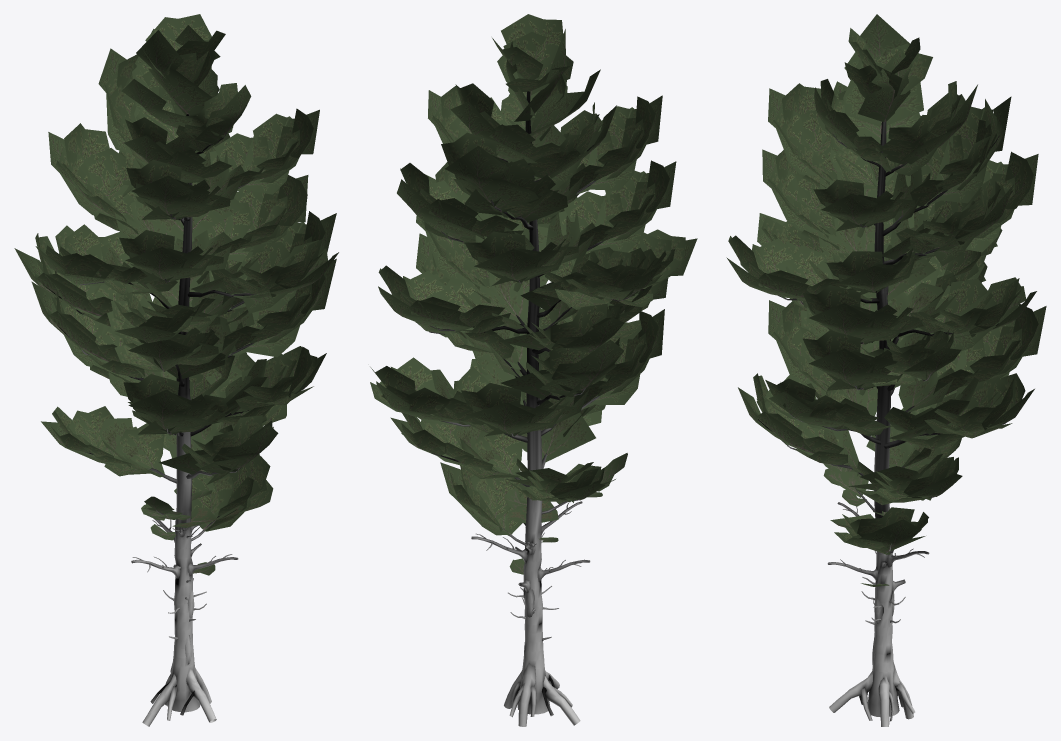
The model's file is PW_Tree_Pine_02_Hero.fbx.
The picture shows the model from 3 angles, left to right: view 1: azimuth 30°, elevation 25°; view 2: azimuth 150°, elevation 25°; view 3: azimuth 270°, elevation 25°; orthographic projection.
Visible parts, largest first — view 1: PW_Tree_Hero_Pine_02_LOD0; view 2: PW_Tree_Hero_Pine_02_LOD0; view 3: PW_Tree_Hero_Pine_02_LOD0.
Part boxes in pixels (x1=…): PW_Tree_Hero_Pine_02_LOD0: x1=14, y1=14, x2=338, y2=726; PW_Tree_Hero_Pine_02_LOD0: x1=370, y1=14, x2=697, y2=726; PW_Tree_Hero_Pine_02_LOD0: x1=726, y1=14, x2=1046, y2=726.
Size of what is drawn, in the model's own units: 644 by 1575 by 660.
